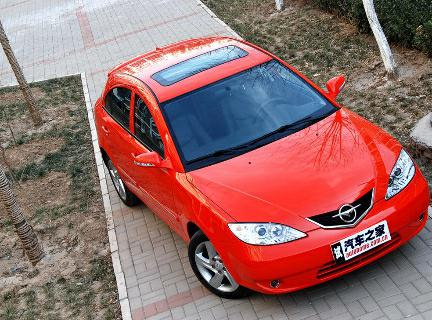海马-欢动: (88, 34, 430, 308)
